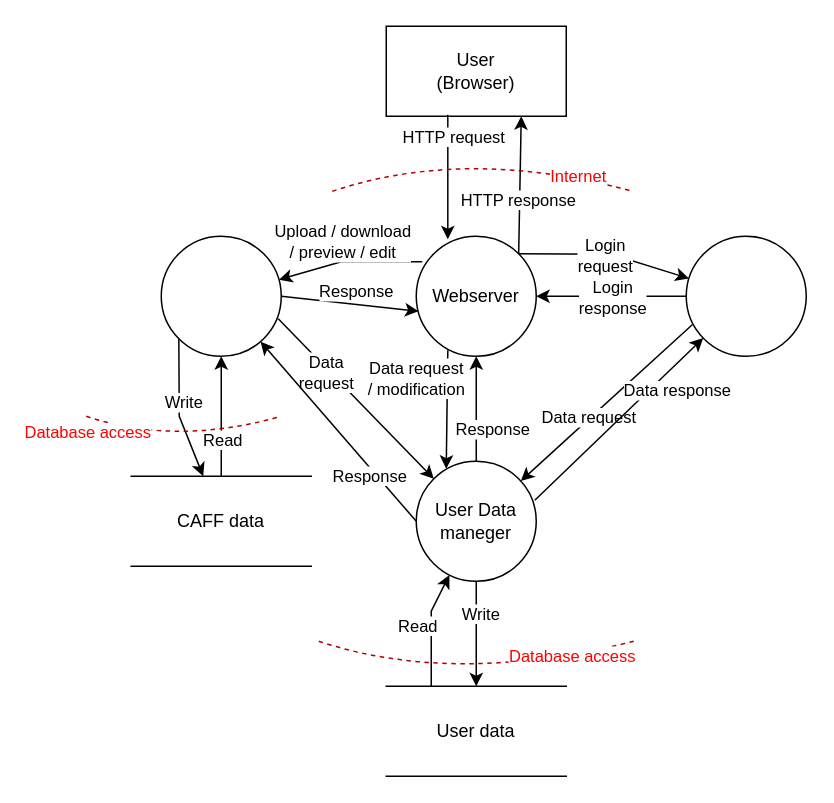
The diagram is 834 pixels wide and 803 high, and some of its shapes have lost their labels. Each missing label, with the centre of its shape:
Authentication component: point 745,295
CAFF manager: point 220,295
